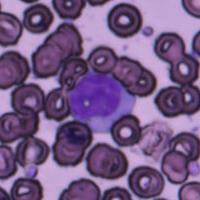M: (67, 70, 135, 131)
